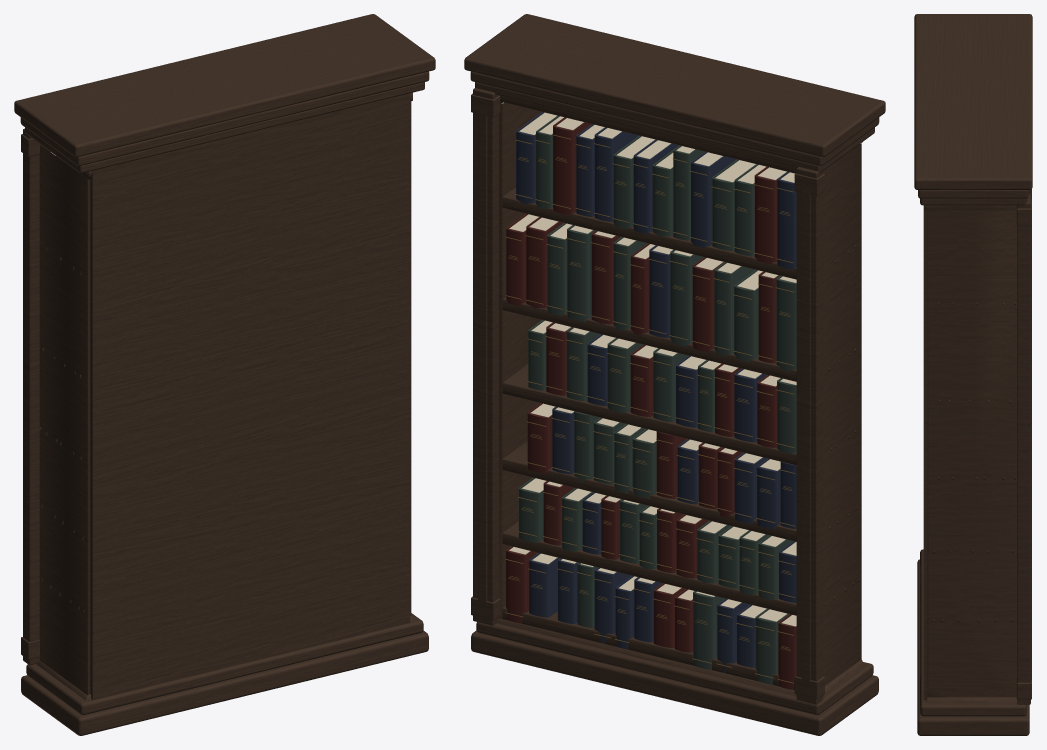
File: bookcase.glb
3 renders of one model, left to right at view 1: azimuth 30°, elevation 25°; view 2: azimuth 150°, elevation 25°; view 3: azimuth 270°, elevation 25°, orthographic. The views are drawn at different scales.
Parts seen in each view (by area): view 1: wooden_bookshelf_worn; view 2: wooden_bookshelf_worn, Leather cover 1, Leather cover 0, Leather cover 2, Book pages 0, Gilt spine band; view 3: wooden_bookshelf_worn.
Part boxes in pixels (left/top/right/bottom): wooden_bookshelf_worn: left=14, top=14, right=435, bottom=735; wooden_bookshelf_worn: left=464, top=14, right=885, bottom=735; Leather cover 1: left=518, top=115, right=796, bottom=684; Leather cover 0: left=506, top=117, right=796, bottom=689; Leather cover 2: left=516, top=112, right=835, bottom=673; Book pages 0: left=509, top=112, right=796, bottom=626; Gilt spine band: left=505, top=134, right=795, bottom=683; wooden_bookshelf_worn: left=914, top=14, right=1032, bottom=735.
Bounding box in the file's own units: 1.4 × 2.2 × 0.42.
6 materials, 1 textured.
